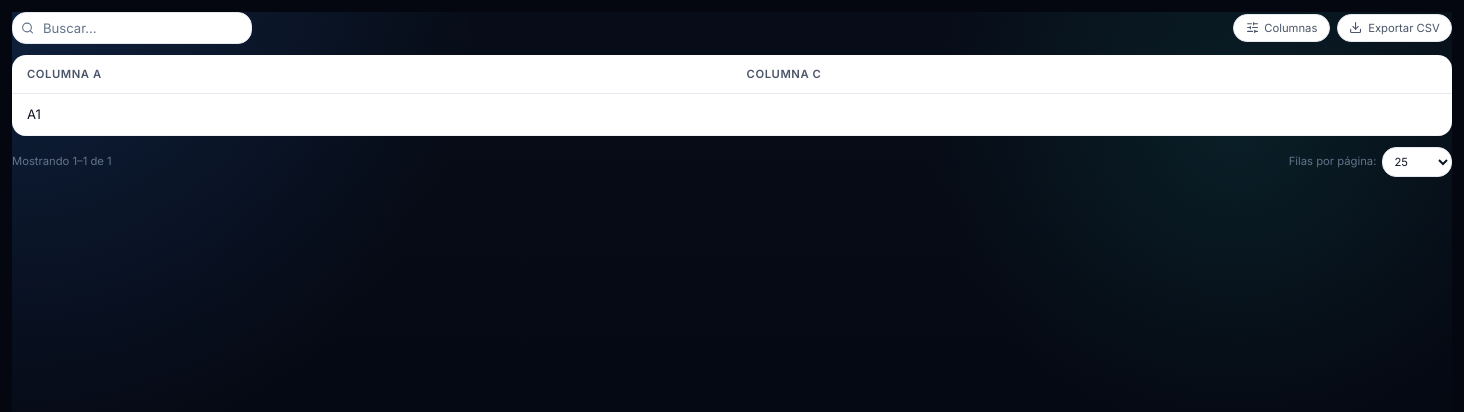
Scenario: una columna nueva se marca «Nueva» hasta que el usuario la toca
This screenshot has width=1464, height=412.
Click the button "Columnas": [1282, 28] box [1233,14,1330,42]
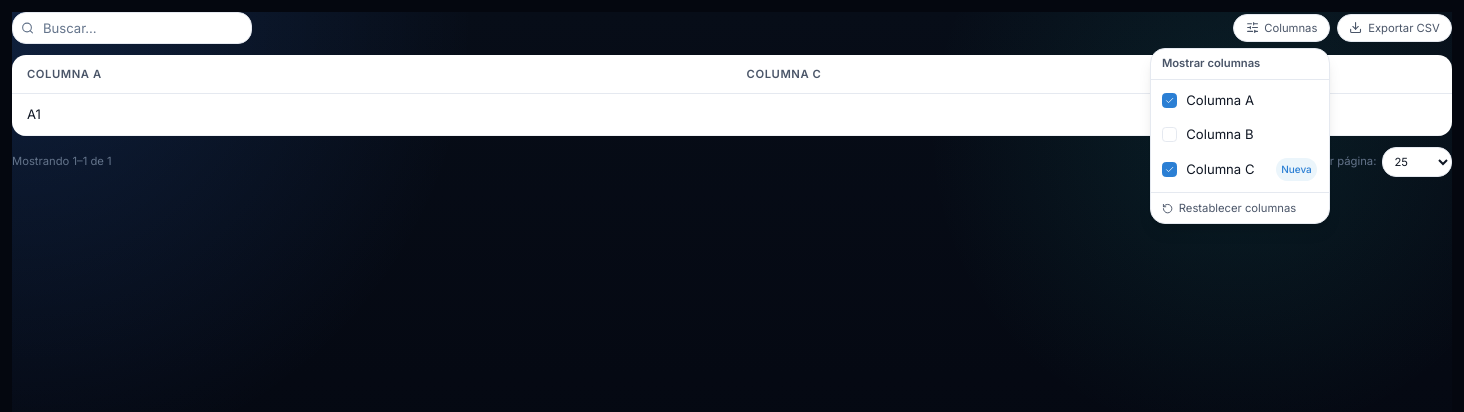
Now the text "Nueva" is shown, box [1276,158,1317,181]
Click the button "Columna C Nueva": [1240, 170] box [1151,151,1329,188]
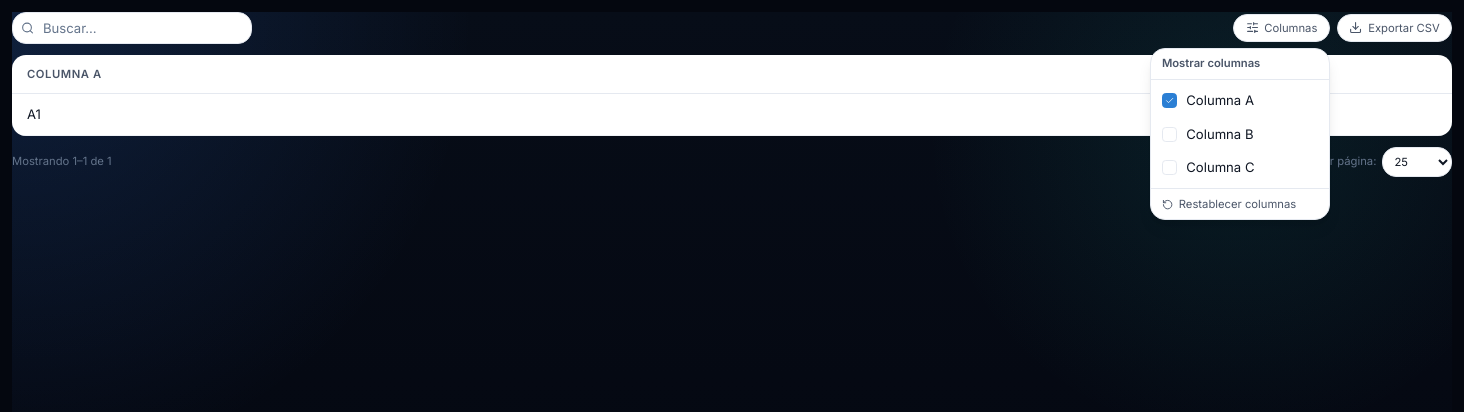
Now the text "Nueva" is gone
